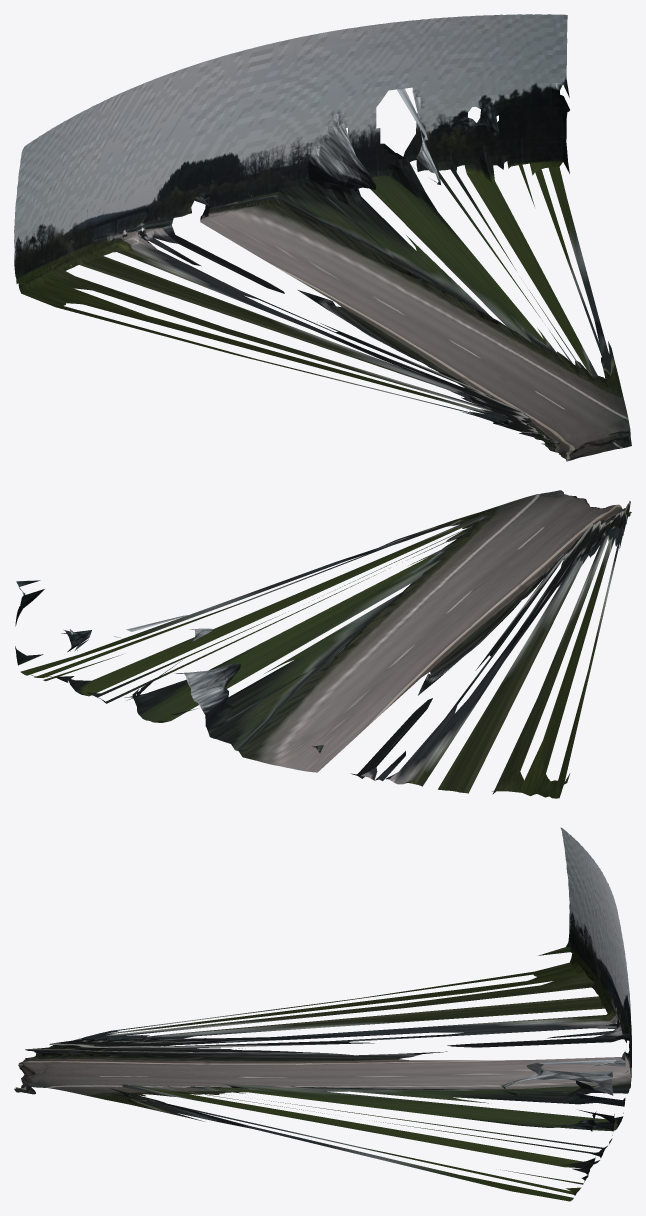
3 renders of one model, top to bottom at view 1: azimuth 30°, elevation 25°; view 2: azimuth 150°, elevation 25°; view 3: azimuth 270°, elevation 25°, orthographic. The views are drawn at different scales.
Visible parts, largest first — view 1: defaultobject; view 2: defaultobject; view 3: defaultobject.
Part boxes in pixels (x1,y1,x2,y2): defaultobject: [14, 14, 631, 461]; defaultobject: [15, 490, 631, 798]; defaultobject: [14, 827, 631, 1201].
Bounding box in the file's own units: 41.12 × 11.91 × 44.64.
Materials: 1 (1 with a texture image).
